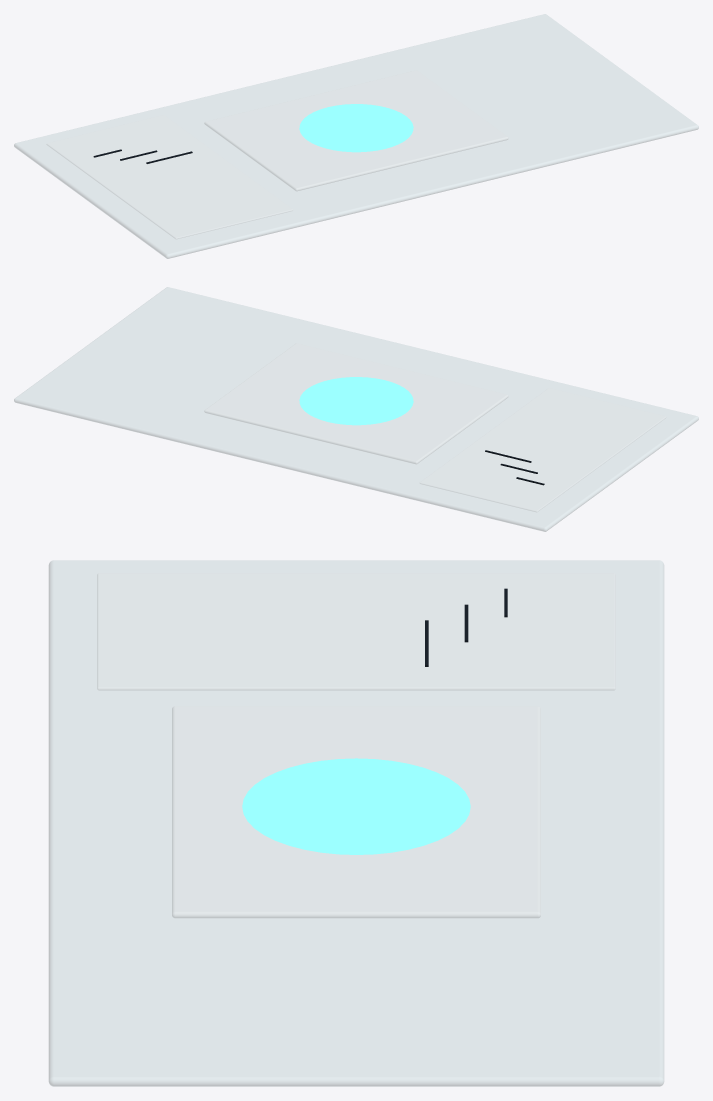
File: microscope-slide.glb
3 views of the same model, one above another, from view 1: azimuth 30°, elevation 25°; view 2: azimuth 150°, elevation 25°; view 3: azimuth 270°, elevation 25° (orthographic). The views are drawn at different scales.
Parts seen in each view (by area): view 1: transparent_microscope_slide_with_ground_edges, raised_coverslip, frosted_label_end, glowing_sample_spot; view 2: transparent_microscope_slide_with_ground_edges, raised_coverslip, frosted_label_end, glowing_sample_spot; view 3: transparent_microscope_slide_with_ground_edges, raised_coverslip, frosted_label_end, glowing_sample_spot.
Boxes of the visible parts, left/top/right/bottom form: transparent_microscope_slide_with_ground_edges: left=14, top=14, right=698, bottom=258; raised_coverslip: left=204, top=70, right=508, bottom=190; frosted_label_end: left=47, top=115, right=292, bottom=238; glowing_sample_spot: left=299, top=104, right=413, bottom=152; transparent_microscope_slide_with_ground_edges: left=14, top=287, right=698, bottom=531; raised_coverslip: left=204, top=343, right=508, bottom=463; frosted_label_end: left=420, top=388, right=665, bottom=511; glowing_sample_spot: left=299, top=377, right=413, bottom=425; transparent_microscope_slide_with_ground_edges: left=49, top=560, right=663, bottom=1086; raised_coverslip: left=172, top=706, right=540, bottom=917; frosted_label_end: left=97, top=573, right=615, bottom=689; glowing_sample_spot: left=242, top=758, right=470, bottom=854.
Bounding box in the file's own units: 14 × 0.27 × 7.
